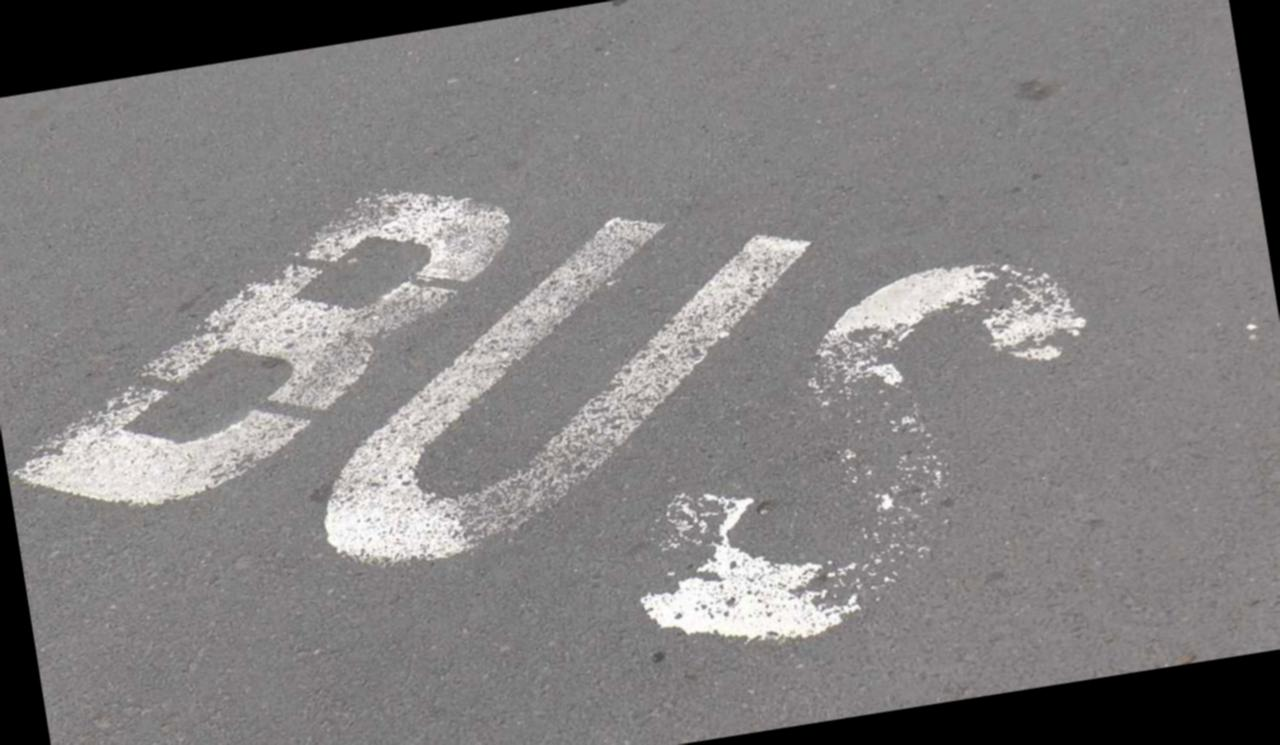faded_road_lines: (0, 62, 1177, 745)
